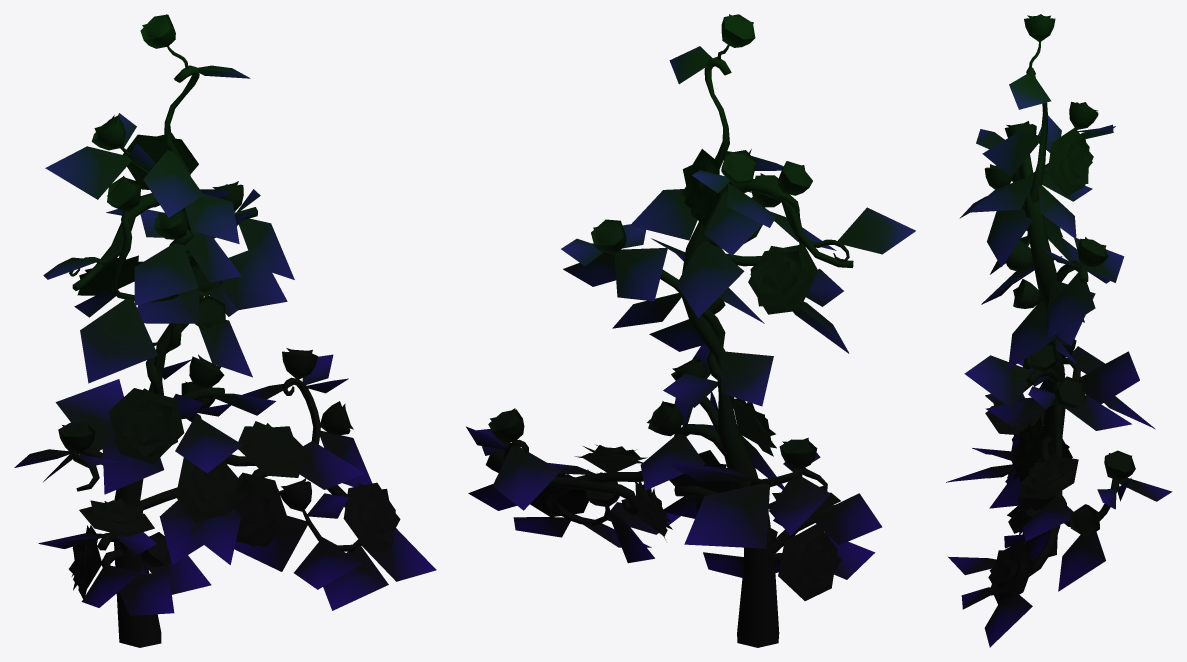
The model's file is TSI_Rose_01C.fbx.
The picture shows the model from 3 angles, left to right: view 1: azimuth 30°, elevation 25°; view 2: azimuth 150°, elevation 25°; view 3: azimuth 270°, elevation 25°; orthographic projection. The views are drawn at different scales.
Visible parts, largest first — view 1: TSI_Rose_01C_LOD0; view 2: TSI_Rose_01C_LOD0; view 3: TSI_Rose_01C_LOD0.
Boxes of the visible parts, x1,y1,x2,y2 form: TSI_Rose_01C_LOD0: [14, 14, 436, 647]; TSI_Rose_01C_LOD0: [466, 14, 915, 647]; TSI_Rose_01C_LOD0: [946, 14, 1172, 647].
Size of the model in its own units: 135 by 202 by 75.78.
